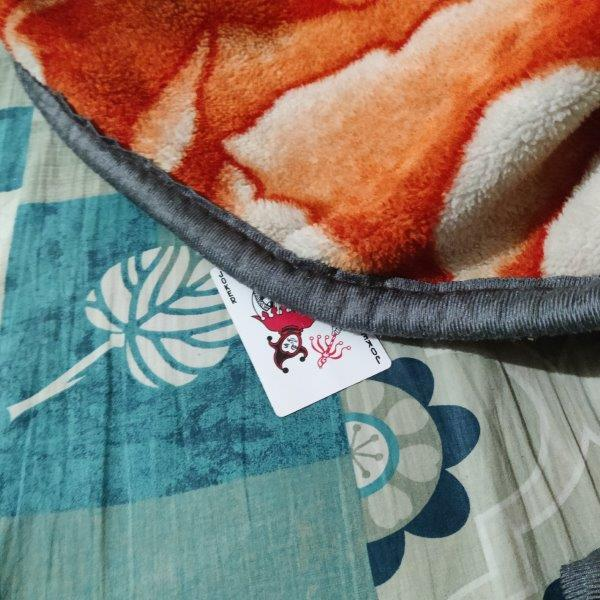Joker: (209, 268, 394, 417)
